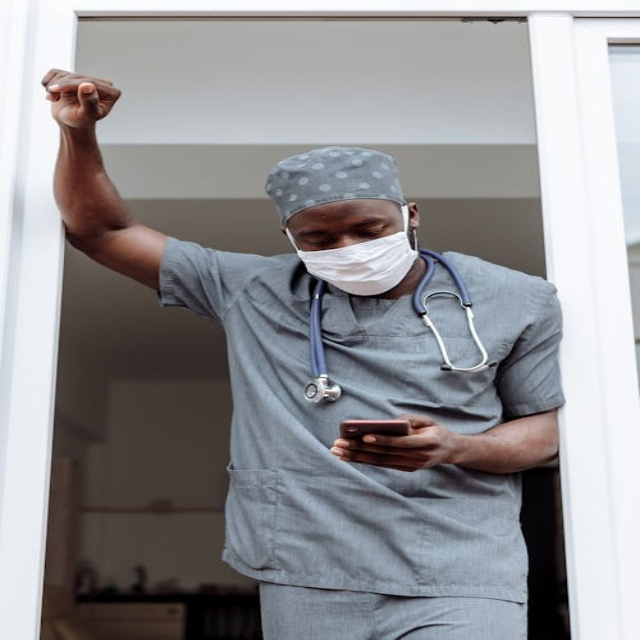Mascara: (289, 215, 421, 295)
Sin_gafas: (288, 209, 398, 249)
Sin_guantes: (330, 413, 457, 473), (41, 68, 121, 130)
